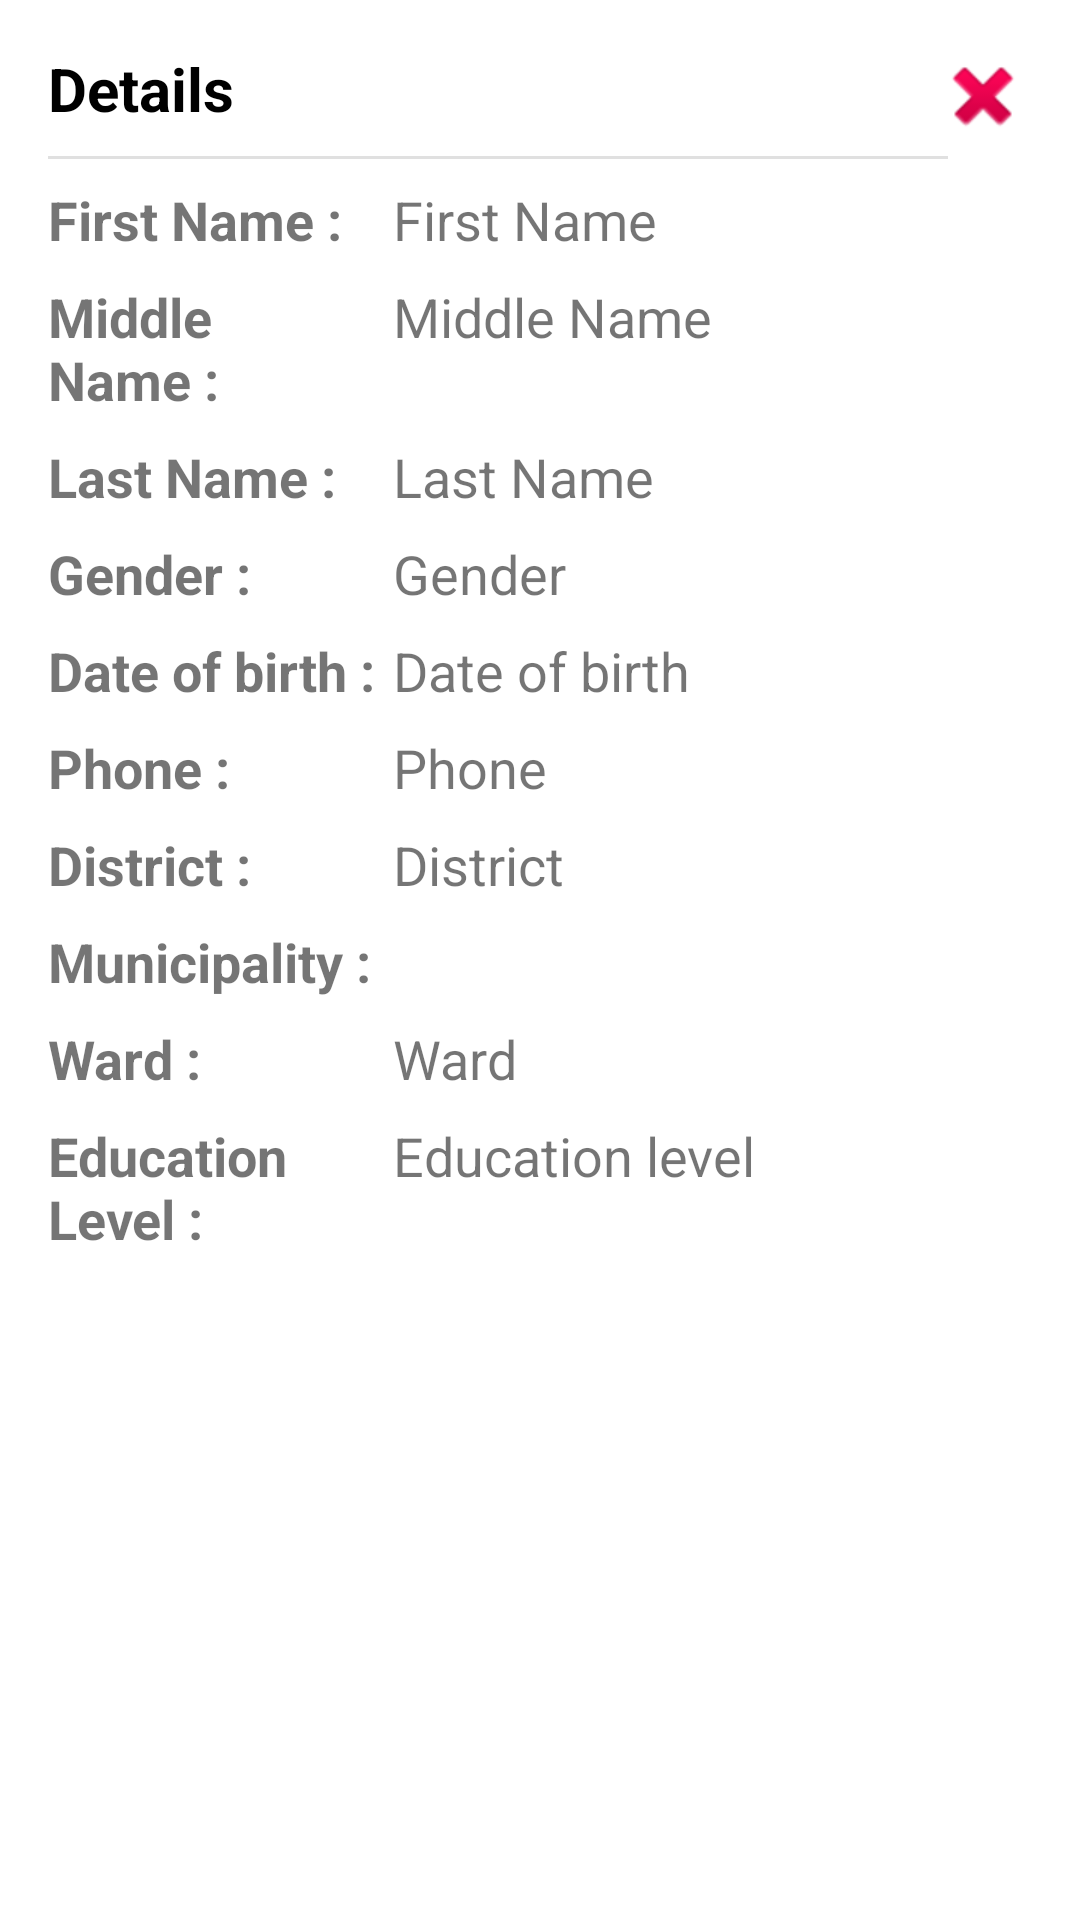

Icons on this 1080w x 1920h Android screen, each with its box as {"x1": x1, "y1": y1, "x2": x2, "y2": y2}:
delete: {"x1": 952, "y1": 67, "x2": 1014, "y2": 126}
